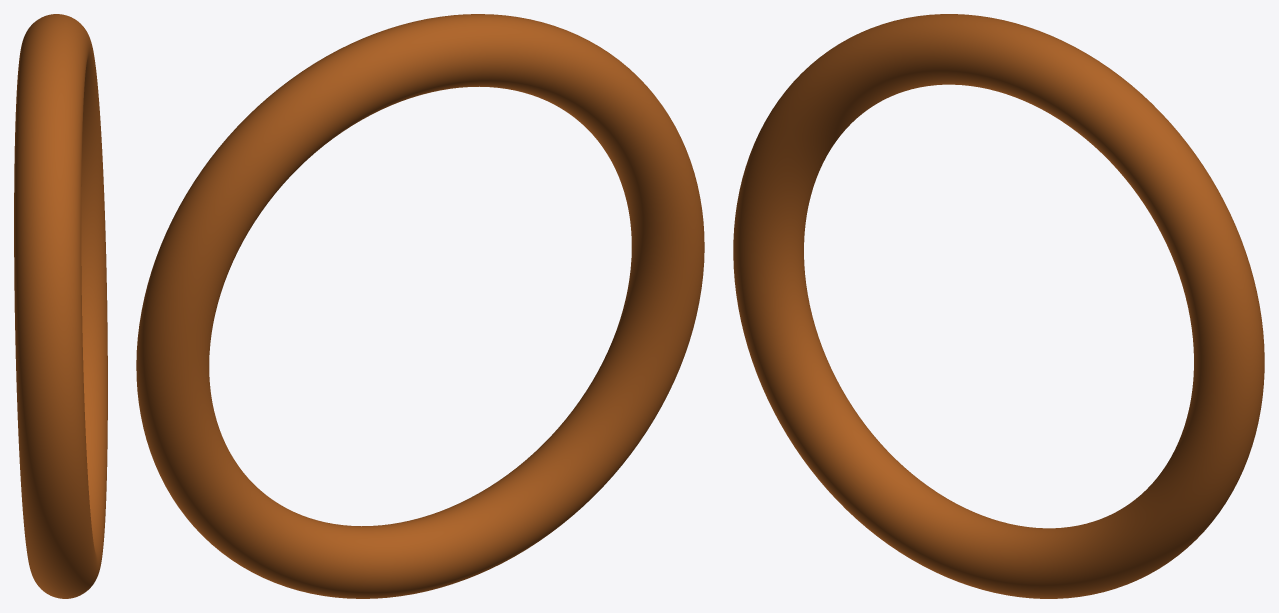
Rendered from Ring.fbx.
3 views of the same model, side by side, from view 1: azimuth 30°, elevation 25°; view 2: azimuth 150°, elevation 25°; view 3: azimuth 270°, elevation 25° (orthographic). The views are drawn at different scales.
Visible parts, largest first — view 1: Torus; view 2: Torus; view 3: Torus.
Boxes of the visible parts, x1,y1,x2,y2 form: Torus: (14, 14, 107, 598); Torus: (136, 14, 704, 598); Torus: (733, 14, 1264, 598).
Size of the model in its own units: 265 by 452 by 391.
